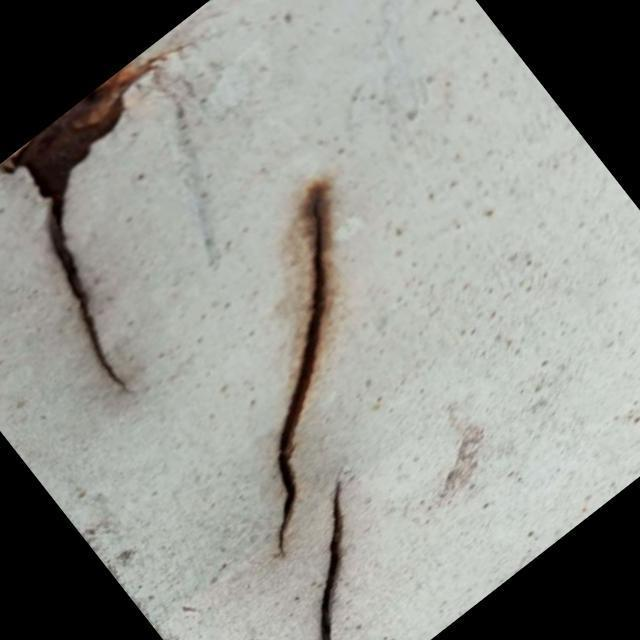defect: (267, 167, 343, 563), (38, 165, 130, 405), (315, 455, 354, 640)
